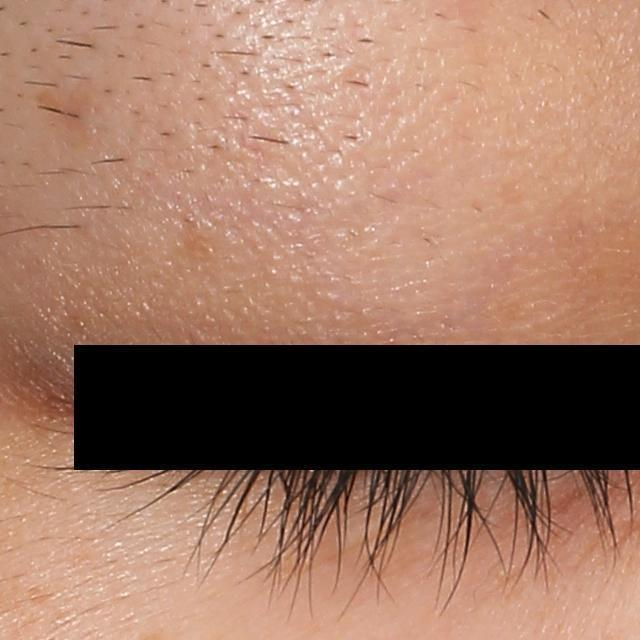melasma: (31, 75, 95, 143), (174, 232, 222, 263)
